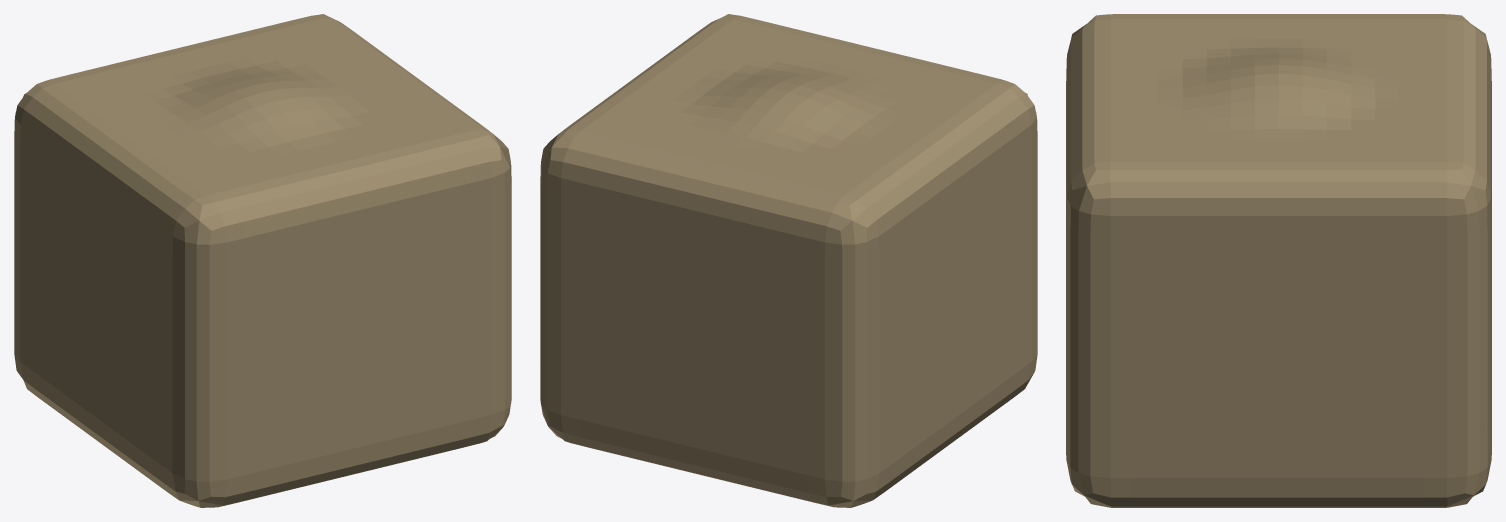
The model's file is SAB-POF-std.glb.
3 renders of one model, left to right at view 1: azimuth 30°, elevation 25°; view 2: azimuth 150°, elevation 25°; view 3: azimuth 270°, elevation 25°, orthographic. The views are drawn at different scales.
Visible parts, largest first — view 1: pillow-pouf:pbr; view 2: pillow-pouf:pbr; view 3: pillow-pouf:pbr.
Boxes of the visible parts, bbox=[...] form: pillow-pouf:pbr: bbox=[14, 14, 511, 507]; pillow-pouf:pbr: bbox=[540, 14, 1037, 507]; pillow-pouf:pbr: bbox=[1066, 14, 1491, 507].
Bounding box in the file's own units: 0.45 × 0.4385 × 0.45.
